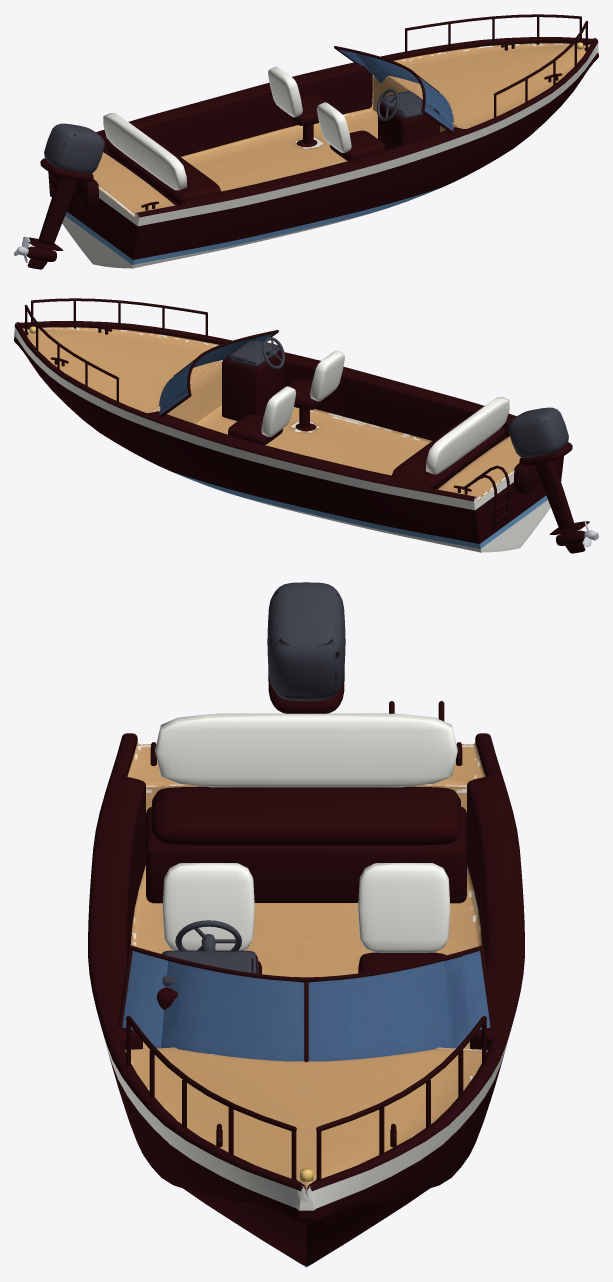
Rendered from lancha-focker-222-2003.glb.
3 views of the same model, one above another, from view 1: azimuth 30°, elevation 25°; view 2: azimuth 150°, elevation 25°; view 3: azimuth 270°, elevation 25° (orthographic). The views are drawn at different scales.
Visible parts, largest first — view 1: motorboat_body, motorboat_steering_wheel; view 2: motorboat_body, motorboat_steering_wheel; view 3: motorboat_body, motorboat_steering_wheel.
Boxes of the visible parts, x1,y1,x2,y2 form: motorboat_body: (23,14,598,269); motorboat_steering_wheel: (376,89,399,120); motorboat_body: (14,298,589,553); motorboat_steering_wheel: (262,337,284,369); motorboat_body: (88,582,524,1267); motorboat_steering_wheel: (175,920,241,952).
Bounding box in the file's own units: 6.77 × 1.65 × 2.21.
Materials: 3 (1 with a texture image).
